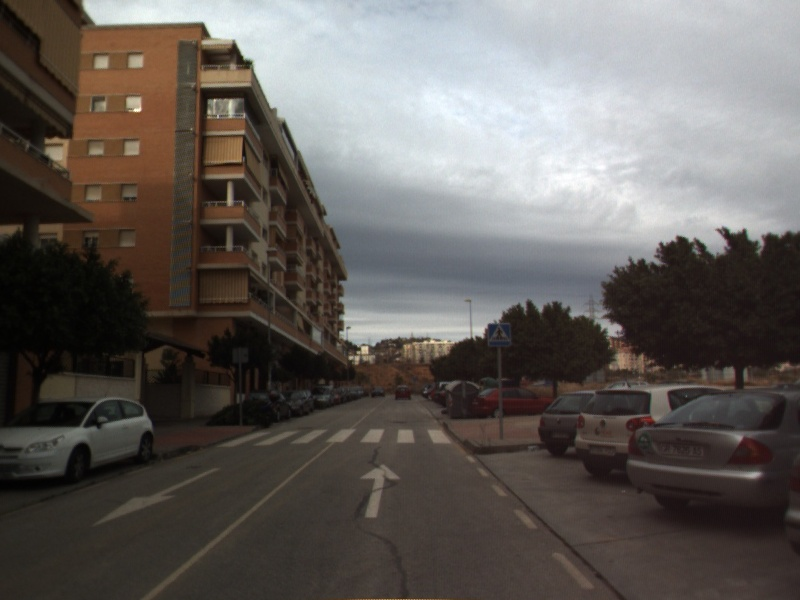STRAIGHT: (358, 462, 403, 520)
